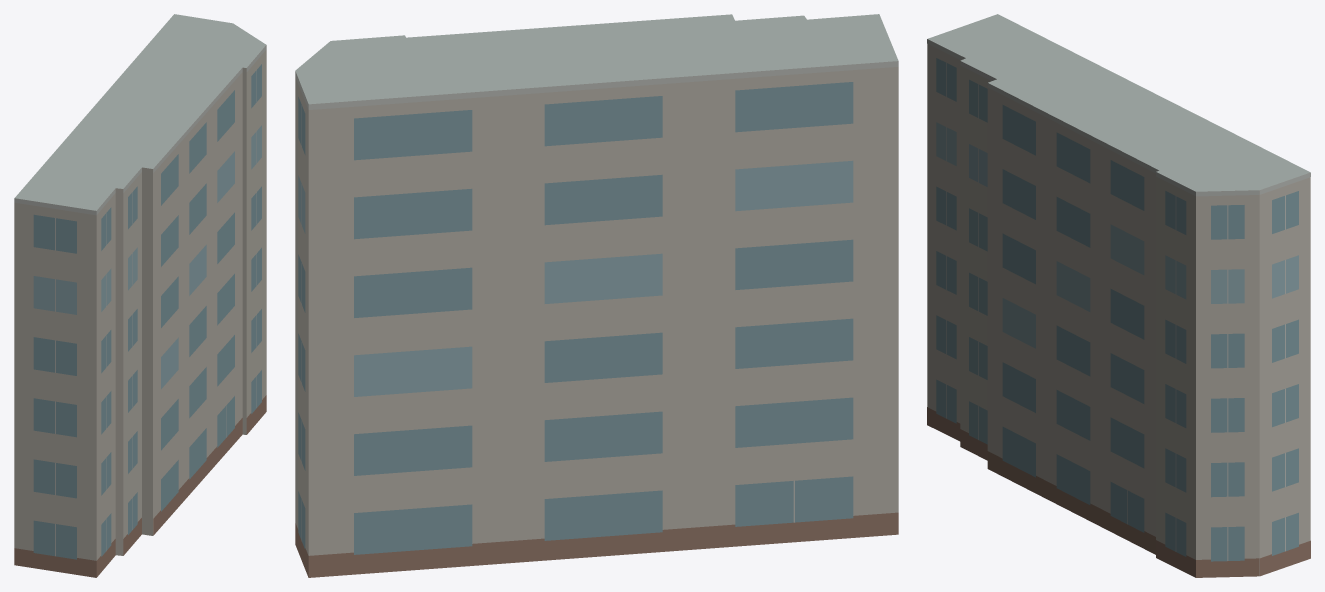
The model's file is survey-upis-32735435.glb.
The picture shows the model from 3 angles, left to right: view 1: azimuth 30°, elevation 25°; view 2: azimuth 150°, elevation 25°; view 3: azimuth 270°, elevation 25°; orthographic projection. The views are drawn at different scales.
Visible parts, largest first — view 1: survey-upis-32735435.tmp; view 2: survey-upis-32735435.tmp; view 3: survey-upis-32735435.tmp.
Part boxes in pixels (left/top/right/bottom): survey-upis-32735435.tmp: left=14, top=14, right=266, bottom=577; survey-upis-32735435.tmp: left=295, top=14, right=898, bottom=577; survey-upis-32735435.tmp: left=927, top=14, right=1310, bottom=577.
Size of the model in its own units: 19.77 by 20.01 by 18.03.
